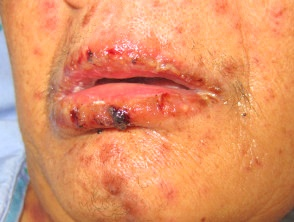SJS-TEN: (32, 33, 250, 143), (89, 137, 146, 222)
